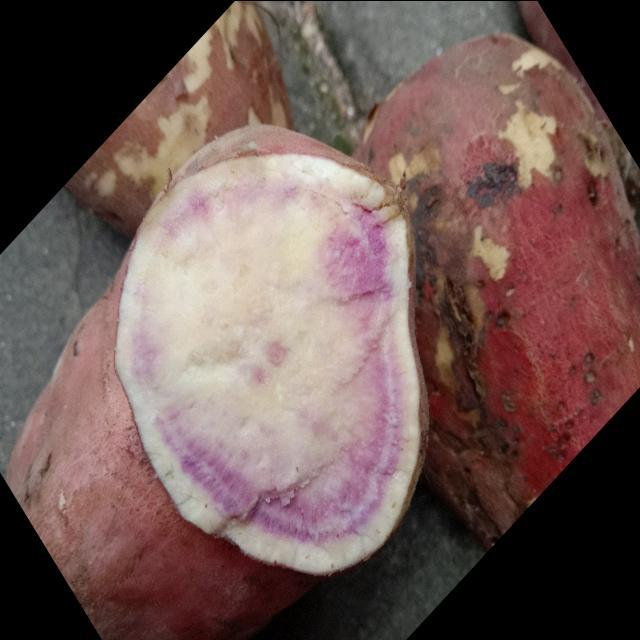Healthy Sweet Potato: (115, 125, 429, 573)
